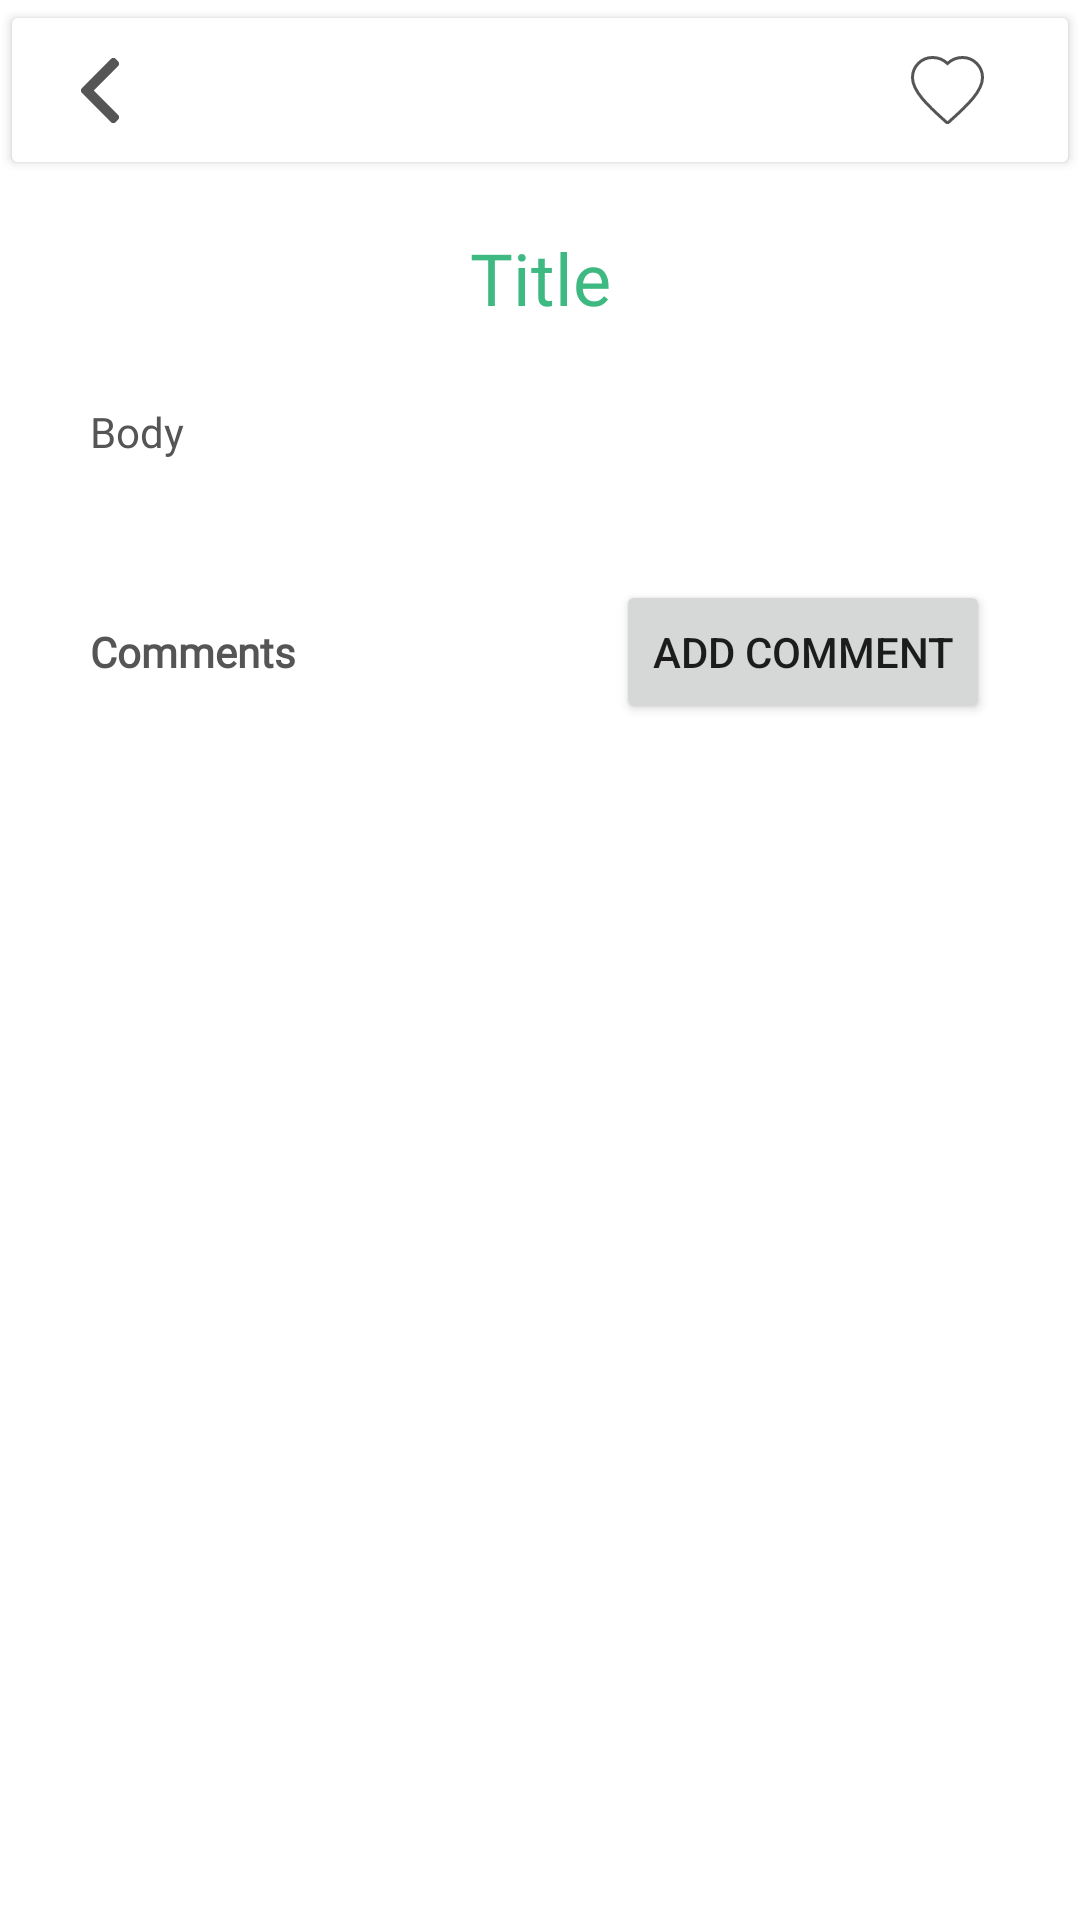

Icons on this 1080 × 1920 Android screen, each with the point to tap as (x=x, y=y):
left arrow: (x=100, y=90)
like: (x=947, y=90)
